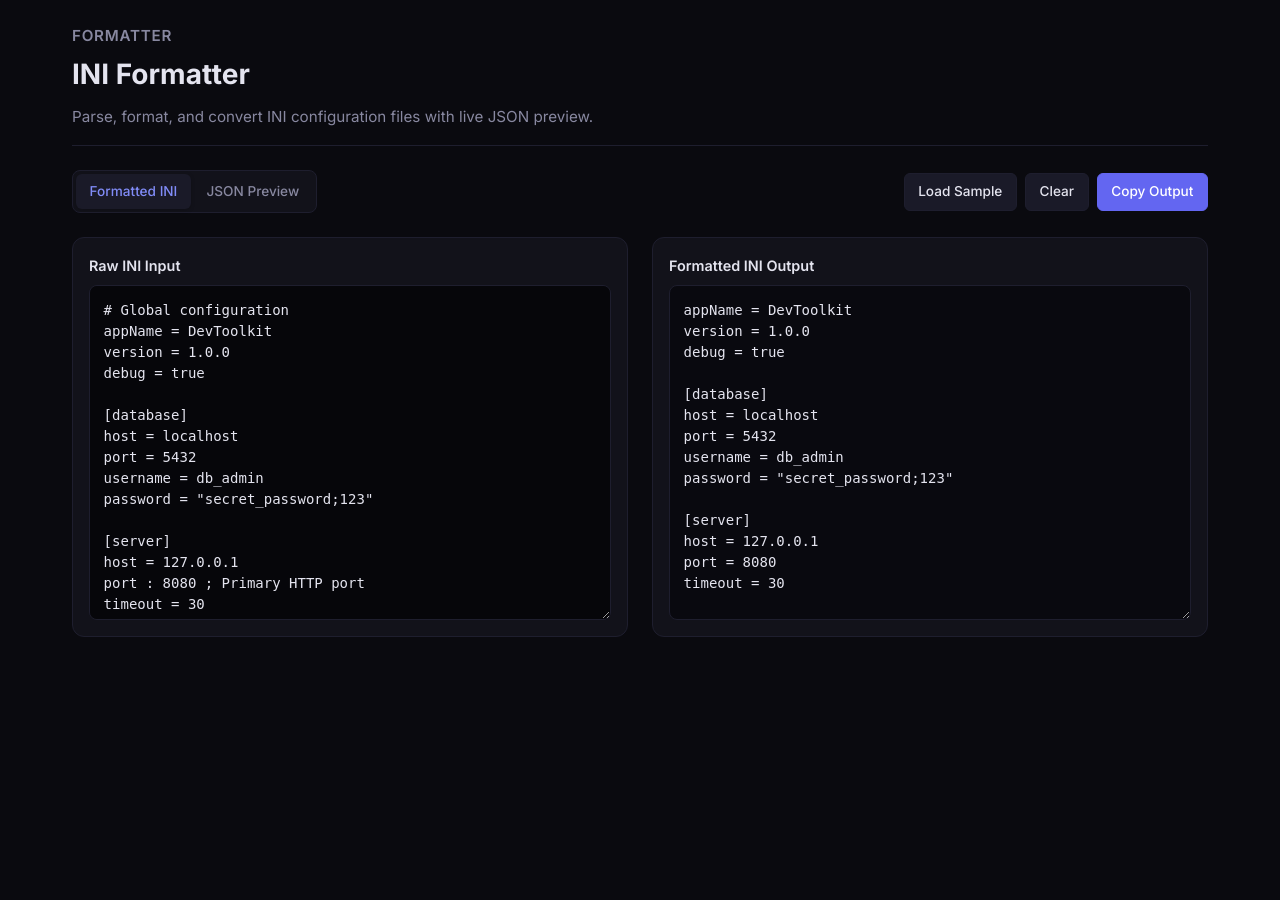
IniFormatterTool › displays syntax error banner on invalid INI input
Replace the text in the text box labelled "Raw INI Input" with "[unclosed_section". click: [350, 452]
box: [89, 285, 611, 620]
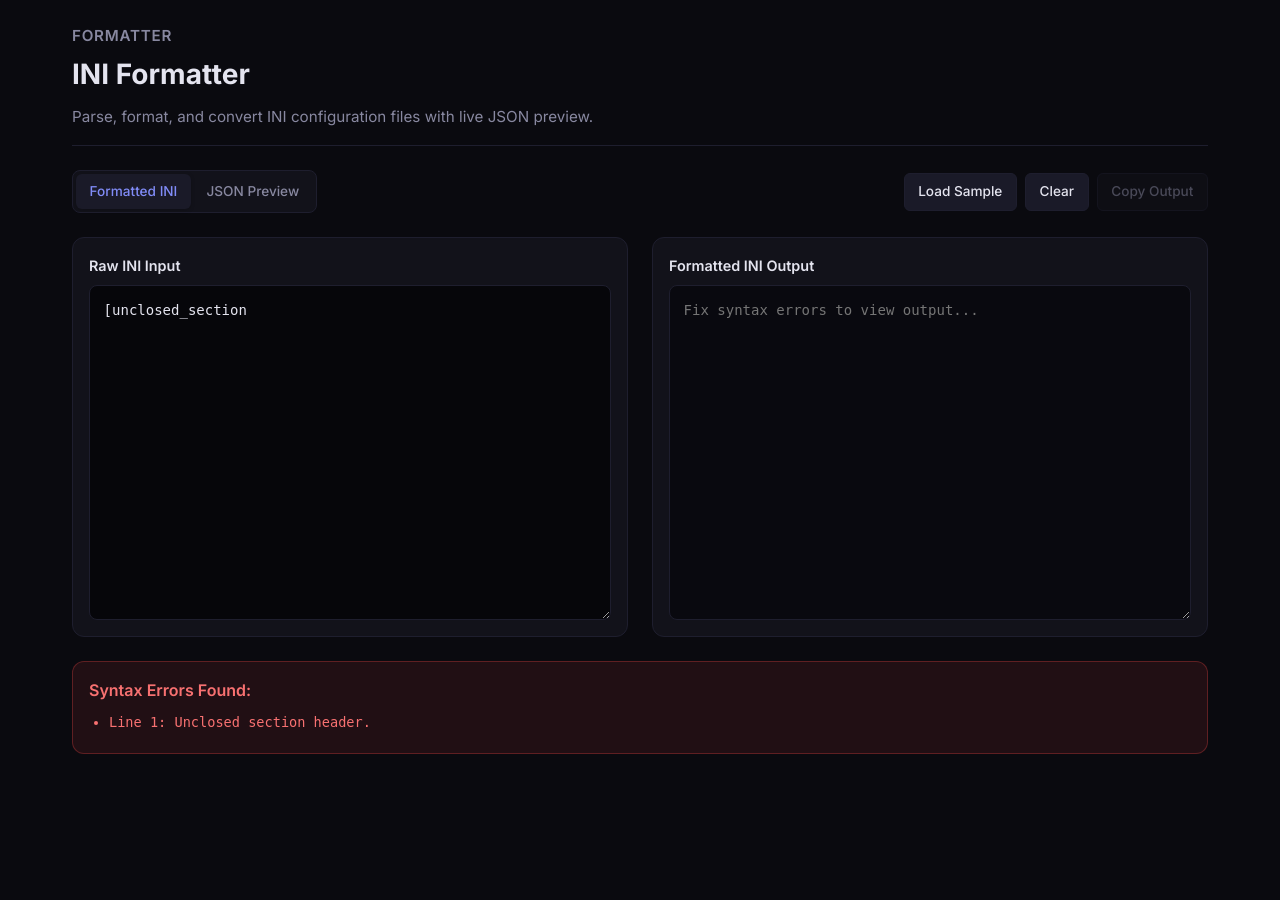
Expected: the message "Syntax Errors Found: Line 1: Unclosed section header." is shown, [72, 661, 1208, 754]
Expected: the list item "Line 1: Unclosed section header." is shown, [109, 714, 371, 730]
